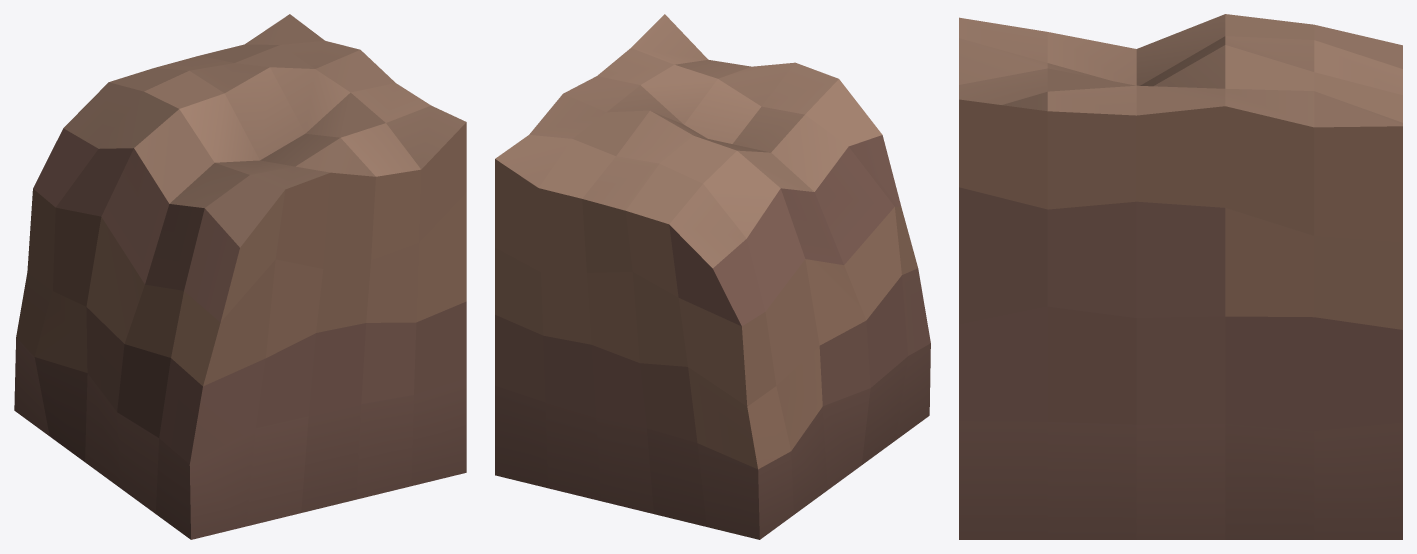
File: roca_te_3.glb
3 renders of one model, left to right at view 1: azimuth 30°, elevation 25°; view 2: azimuth 150°, elevation 25°; view 3: azimuth 270°, elevation 25°, orthographic. The views are drawn at different scales.
Visible parts, largest first — view 1: propforge-cuartos-roca_te; view 2: propforge-cuartos-roca_te; view 3: propforge-cuartos-roca_te.
Part boxes in pixels (box(x1,y1,x2,y2)): propforge-cuartos-roca_te: box(14, 14, 466, 539); propforge-cuartos-roca_te: box(495, 14, 930, 539); propforge-cuartos-roca_te: box(959, 14, 1402, 539).
Size of the model in its own units: 0.9206 by 1.09 by 1.
